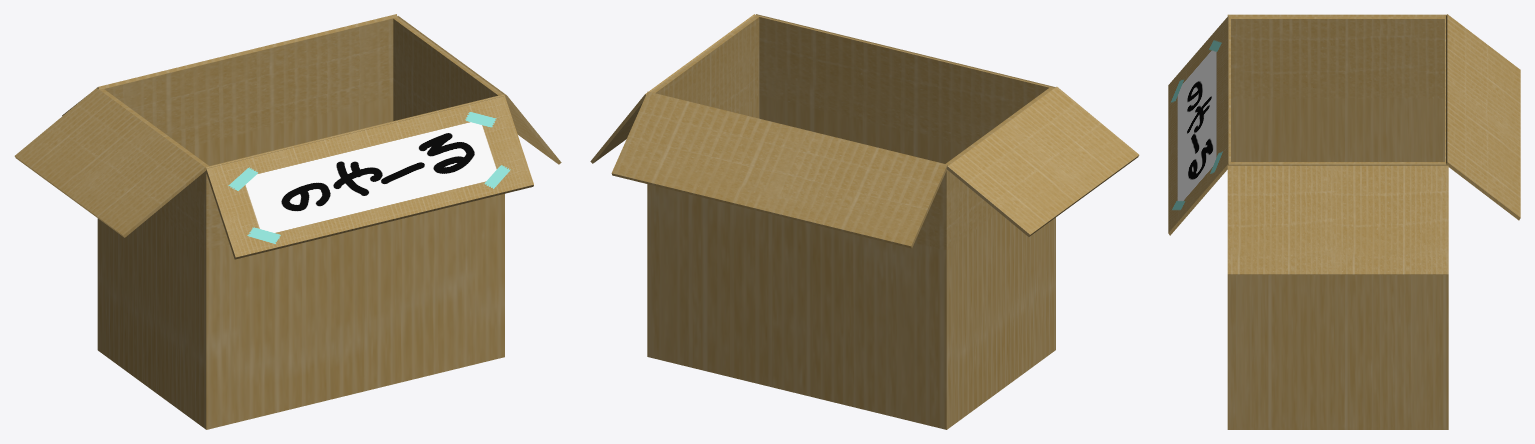
File: Cardboard_MsgH.FBX
The picture shows the model from 3 angles, left to right: view 1: azimuth 30°, elevation 25°; view 2: azimuth 150°, elevation 25°; view 3: azimuth 270°, elevation 25°; orthographic projection.
Parts seen in each view (by area): view 1: Cardboard_MsgHtype; view 2: Cardboard_MsgHtype; view 3: Cardboard_MsgHtype.
Boxes of the visible parts, x1,y1,x2,y2 form: Cardboard_MsgHtype: (14, 14, 561, 429); Cardboard_MsgHtype: (590, 14, 1139, 429); Cardboard_MsgHtype: (1168, 14, 1520, 429).
Bounding box in the file's own units: 465 × 268 × 319.
